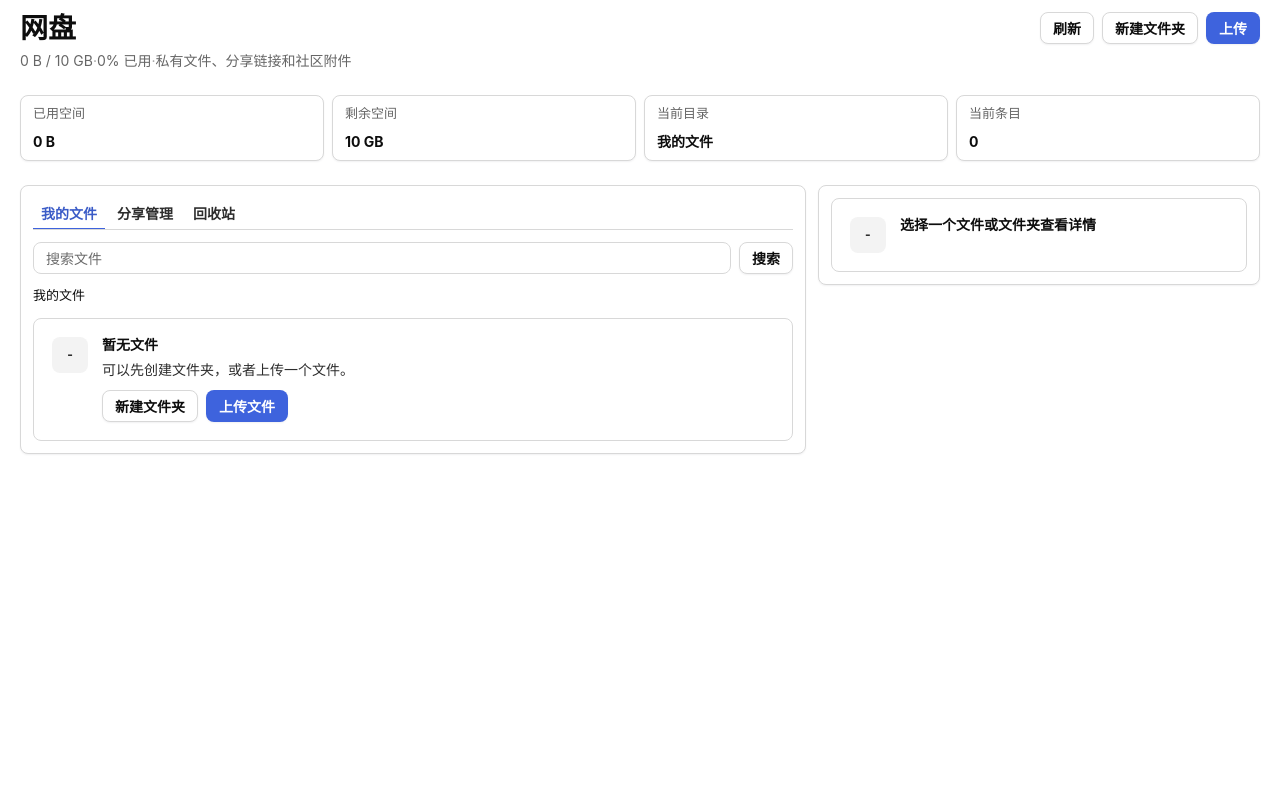
Test case: DriveView › loads persisted shares when opening share management
Click the tab "分享管理": (145, 214) top-left (109, 198), bottom-right (181, 230)
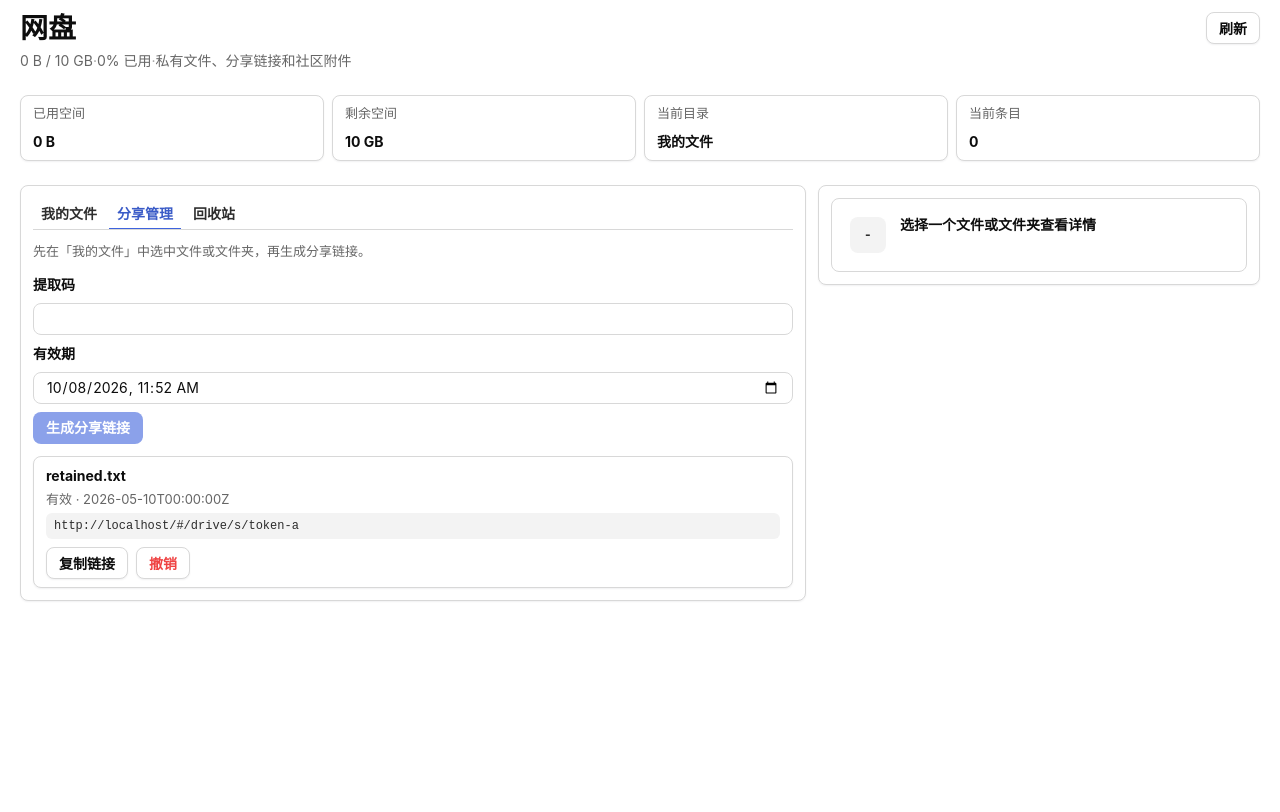
Result: the text "retained.txt" is shown at top-left (46, 467), bottom-right (126, 484)
